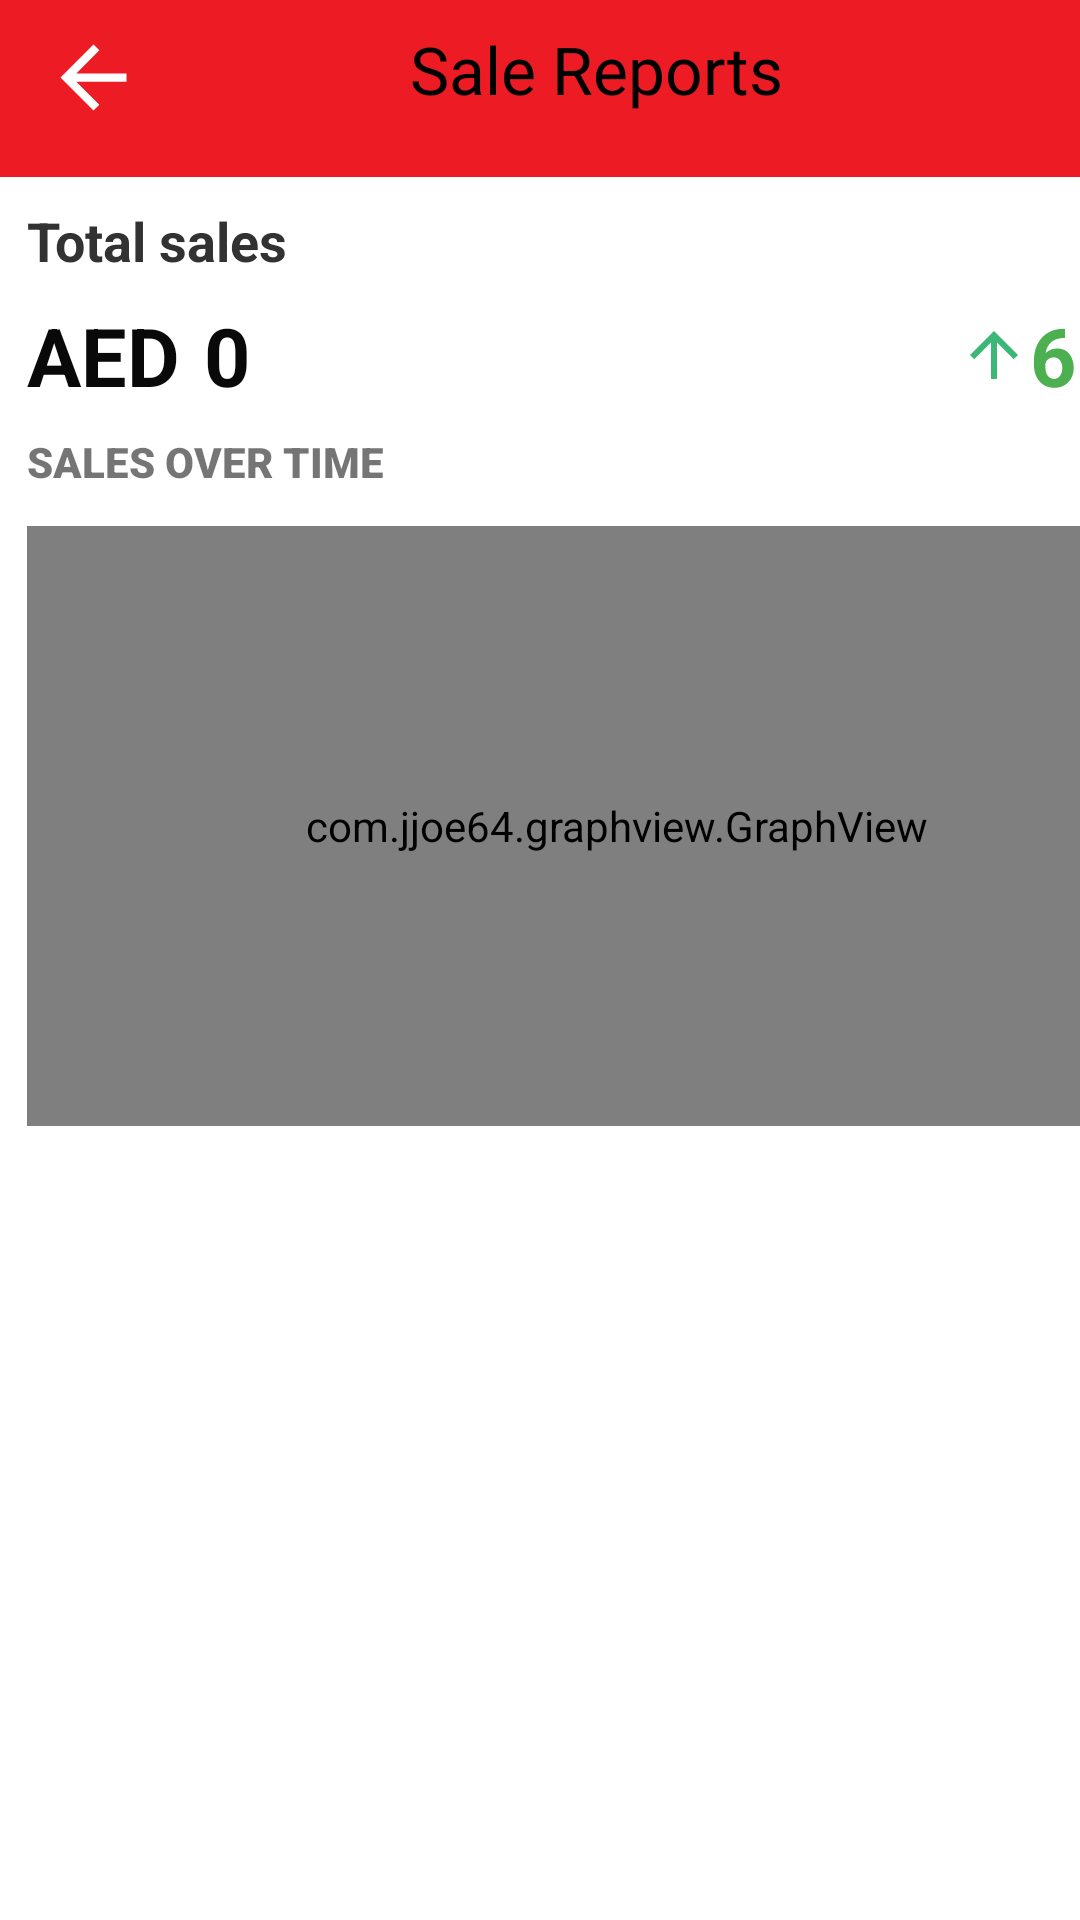

Icons on this 1080px x 1920px Android screen, each with its box as (x1, y1, x2, y2):
arrow upward: (970, 331, 1018, 379)
back: (60, 44, 127, 111)
